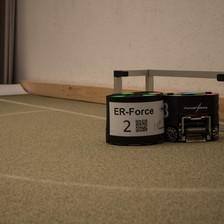robot: (102, 86, 166, 146), (162, 89, 221, 144)
